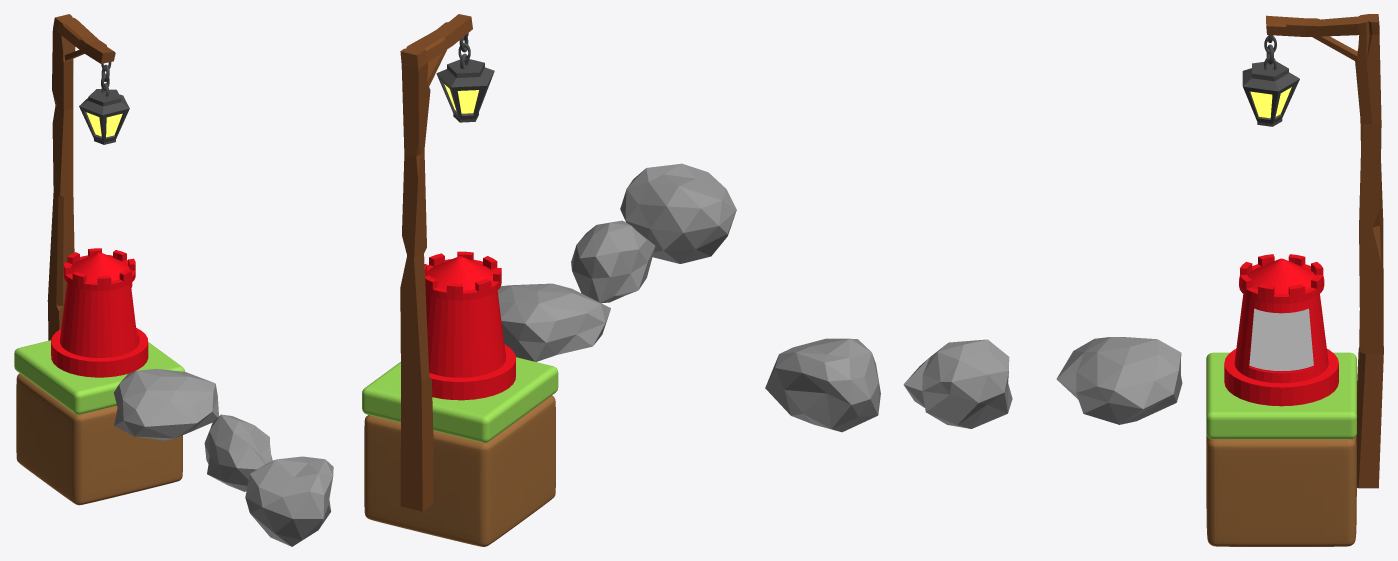
File: Art.glb
3 views of the same model, side by side, from view 1: azimuth 30°, elevation 25°; view 2: azimuth 150°, elevation 25°; view 3: azimuth 270°, elevation 25° (orthographic). The views are drawn at different scales.
Visible parts, largest first — view 1: TerrainTile, Piece, Pilar, Rock1, Rock3, Rock2, Lamp, Lights; view 2: TerrainTile, Pilar, Piece, Rock3, Rock1, Rock2, Lamp, Lights; view 3: TerrainTile, Pilar, Piece, Rock1, Rock3, Rock2, Image, Lamp.
Boxes of the visible parts, bbox=[...] form: TerrainTile: bbox=[14, 340, 184, 505]; Piece: bbox=[51, 248, 148, 377]; Pilar: bbox=[47, 14, 115, 340]; Rock1: bbox=[114, 368, 218, 440]; Rock3: bbox=[245, 456, 333, 546]; Rock2: bbox=[204, 414, 272, 491]; Lamp: bbox=[79, 62, 129, 144]; Lights: bbox=[86, 112, 122, 137]; TerrainTile: bbox=[362, 357, 558, 546]; Pilar: bbox=[400, 14, 472, 511]; Piece: bbox=[424, 251, 515, 400]; Rock3: bbox=[620, 163, 736, 263]; Rock1: bbox=[497, 283, 610, 361]; Rock2: bbox=[571, 220, 655, 303]; Lamp: bbox=[436, 33, 494, 122]; Lights: bbox=[444, 84, 478, 113]; TerrainTile: bbox=[1206, 352, 1356, 546]; Pilar: bbox=[1266, 14, 1383, 488]; Piece: bbox=[1224, 254, 1338, 406]; Rock1: bbox=[1056, 337, 1182, 424]; Rock3: bbox=[765, 338, 880, 432]; Rock2: bbox=[903, 339, 1012, 428]; Image: bbox=[1249, 308, 1313, 371]; Lamp: bbox=[1242, 35, 1299, 126].
Size of the model in its own units: 2 by 7.36 by 8.21.
